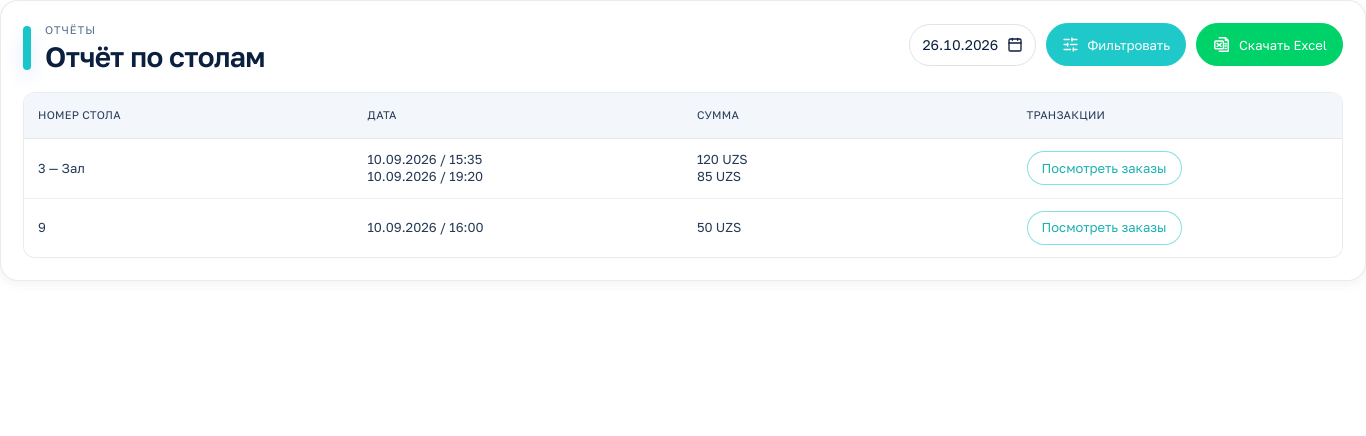
TablesReportPage Phase 1 exact table › Очистить resets every multi-select to placeholders with no params sent
Expected: the text "3 — Зал" is shown, [38,160,85,176]
Step 1. Click the button "Фильтровать" → (1116, 44), box [1046,23,1186,66]
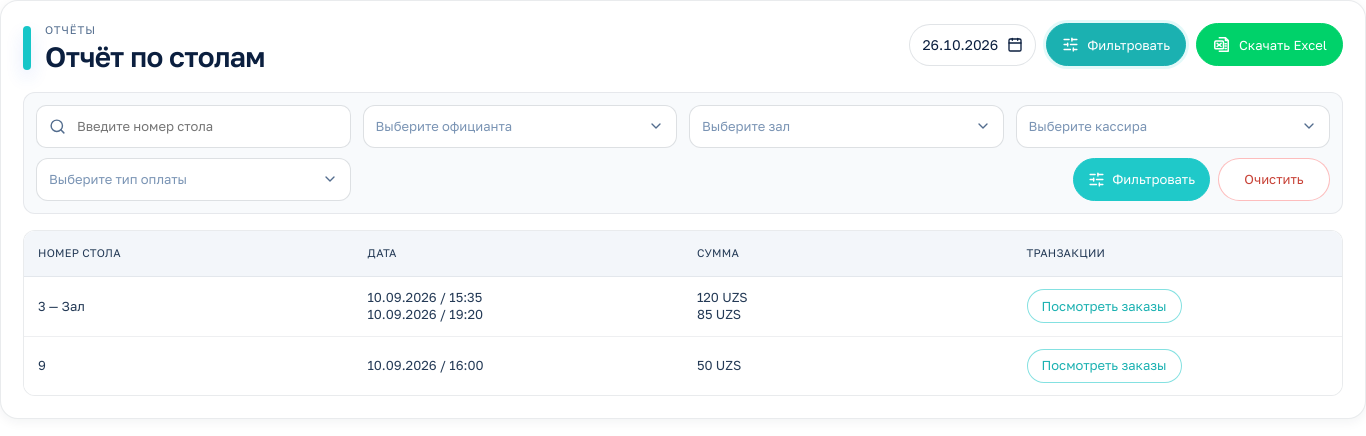
Step 2. Click the dropdown labelled "официант" → (444, 126), box [362,105,677,148]
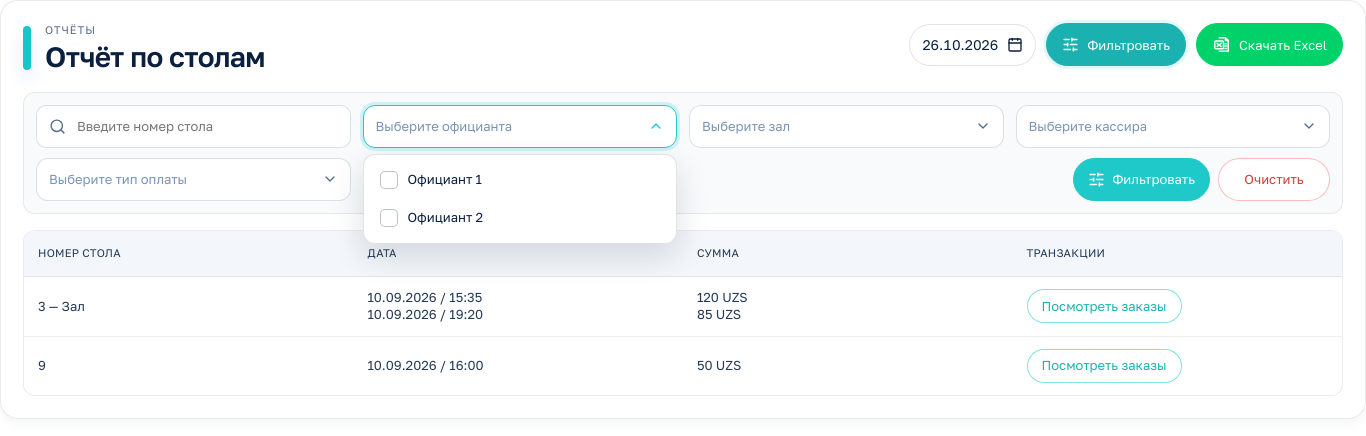
Step 3. Click the option "Официант 1" → (445, 179), box [370,161,670,199]
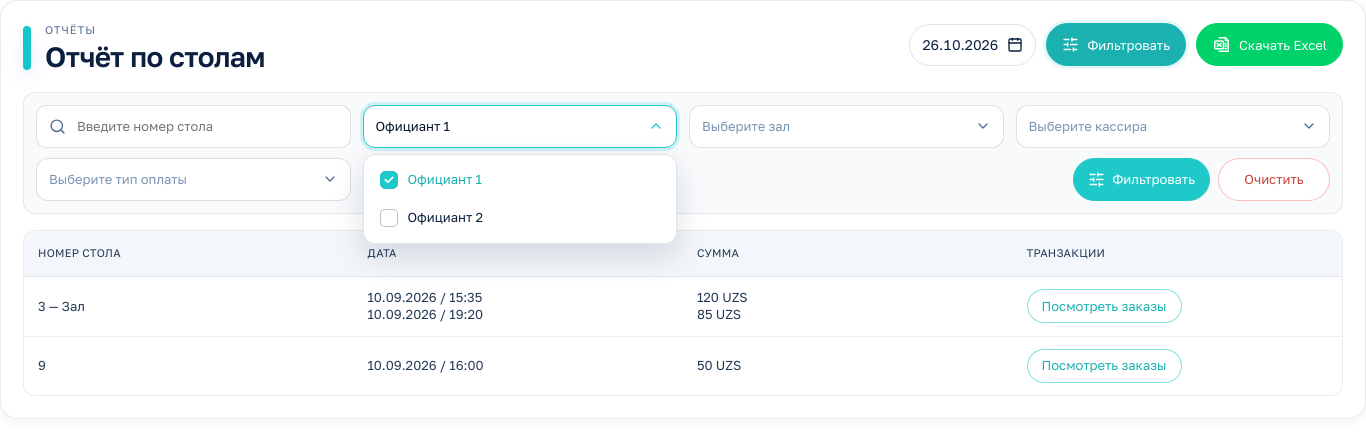
Step 4. Click the 2nd button "Фильтровать" → (1142, 179), box [1073,158,1210,201]
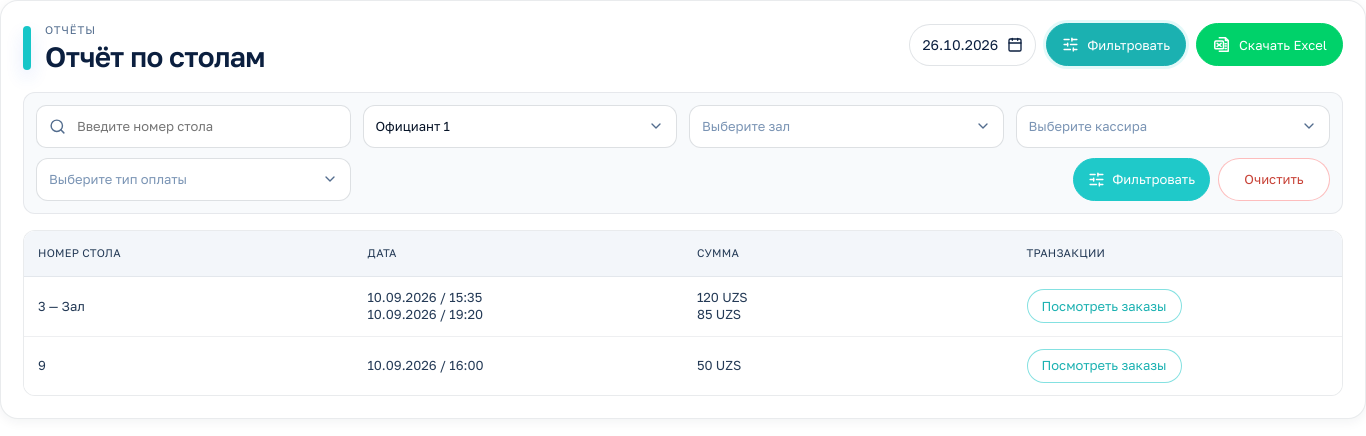
Step 5. Click the button "Очистить" → (1274, 179), box [1218,158,1330,201]
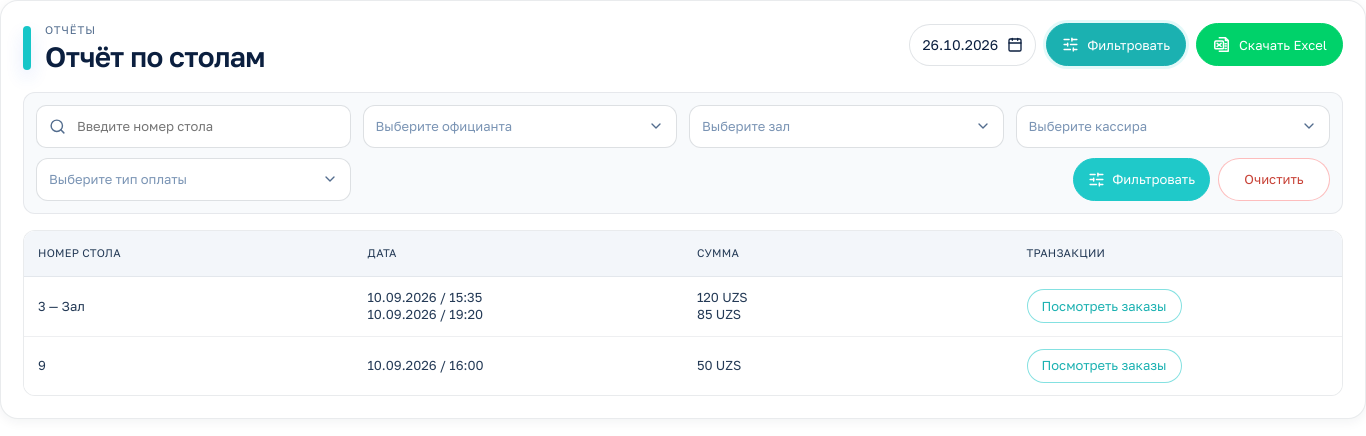
Result: the dropdown labelled "официант" reads "Выберите официанта" at [362,105,677,148]
